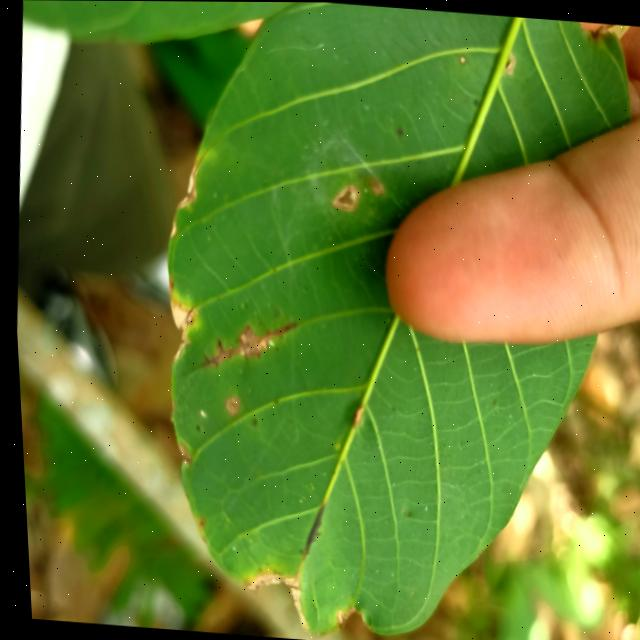Corynespora: (196, 315, 294, 373), (292, 502, 321, 557)
Leaf-Blight: (164, 297, 190, 330)
